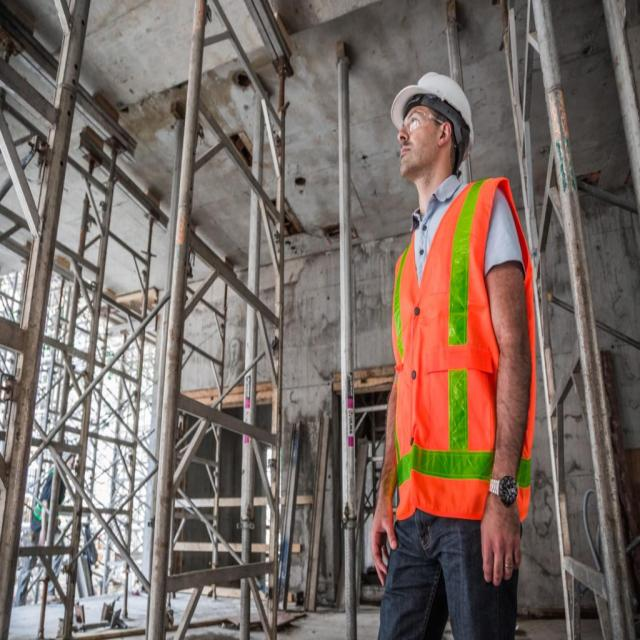goggles: (394, 109, 454, 140)
helmet: (388, 69, 482, 121)
vest: (378, 177, 547, 546)
